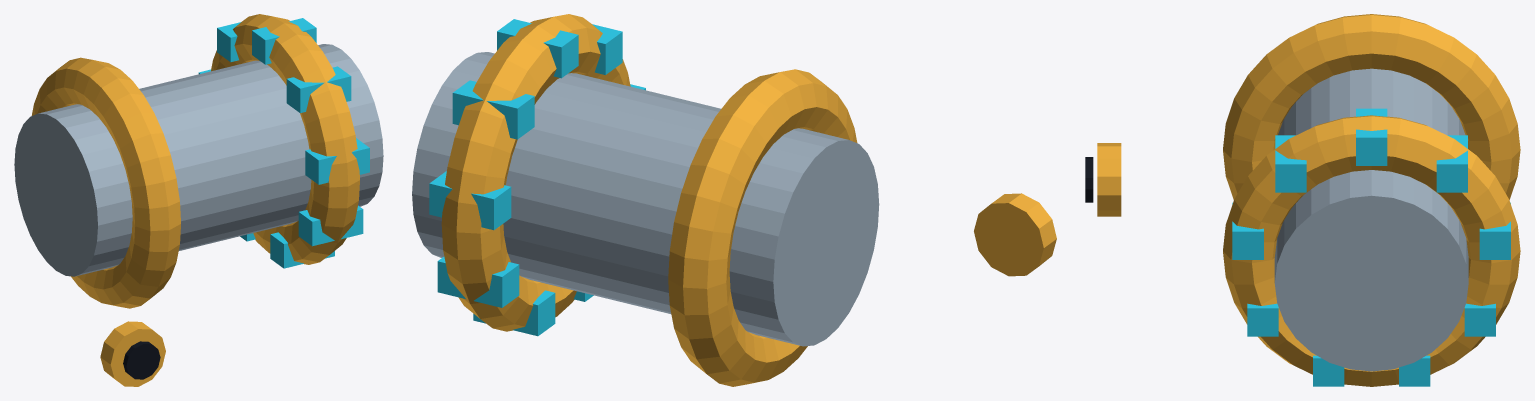
Rendered from 50_L86_CoolantQuickDisconnectA.fbx.
3 views of the same model, side by side, from view 1: azimuth 30°, elevation 25°; view 2: azimuth 150°, elevation 25°; view 3: azimuth 270°, elevation 25° (orthographic). The views are drawn at different scales.
Parts seen in each view (by area): view 1: L86_CoolantQuickDisconnectA_Part_0000, L86_CoolantQuickDisconnectA_Part_0001, L86_CoolantQuickDisconnectA_Part_0002, L86_CoolantQuickDisconnectA_Part_0003, L86_CoolantQuickDisconnectA_Part_0004; view 2: L86_CoolantQuickDisconnectA_Part_0000, L86_CoolantQuickDisconnectA_Part_0001, L86_CoolantQuickDisconnectA_Part_0002, L86_CoolantQuickDisconnectA_Part_0003; view 3: L86_CoolantQuickDisconnectA_Part_0001, L86_CoolantQuickDisconnectA_Part_0000, L86_CoolantQuickDisconnectA_Part_0002, L86_CoolantQuickDisconnectA_Part_0003, L86_CoolantQuickDisconnectA_Part_0004.
Part boxes in pixels (<box>): L86_CoolantQuickDisconnectA_Part_0000: <box>14,44,383,276</box>; L86_CoolantQuickDisconnectA_Part_0001: <box>31,14,359,308</box>; L86_CoolantQuickDisconnectA_Part_0002: <box>198,18,369,268</box>; L86_CoolantQuickDisconnectA_Part_0003: <box>100,321,165,386</box>; L86_CoolantQuickDisconnectA_Part_0004: <box>123,341,160,379</box>; L86_CoolantQuickDisconnectA_Part_0000: <box>412,52,879,346</box>; L86_CoolantQuickDisconnectA_Part_0001: <box>441,14,857,386</box>; L86_CoolantQuickDisconnectA_Part_0002: <box>429,19,645,336</box>; L86_CoolantQuickDisconnectA_Part_0003: <box>974,193,1056,276</box>; L86_CoolantQuickDisconnectA_Part_0001: <box>1223,14,1520,386</box>; L86_CoolantQuickDisconnectA_Part_0000: <box>1274,68,1468,371</box>; L86_CoolantQuickDisconnectA_Part_0002: <box>1232,108,1510,386</box>; L86_CoolantQuickDisconnectA_Part_0003: <box>1097,143,1121,216</box>; L86_CoolantQuickDisconnectA_Part_0004: <box>1085,157,1093,202</box>.
Bounding box in the file's own units: 82 × 52.2 × 76.3.
